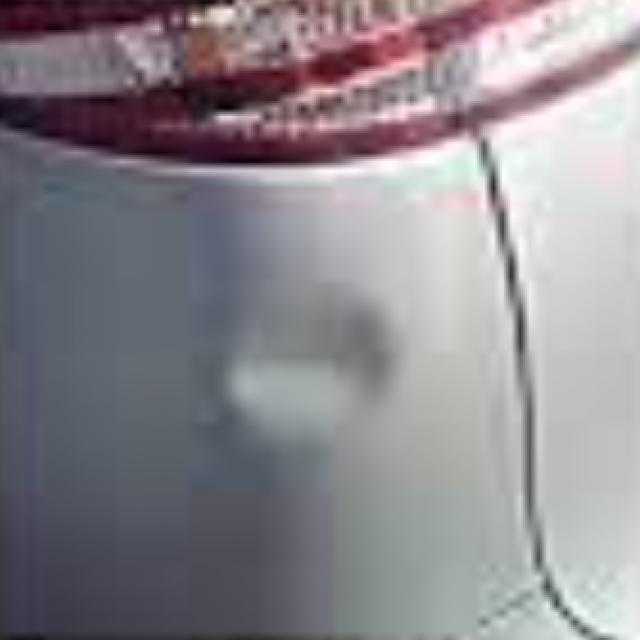dents: (214, 281, 402, 462)
